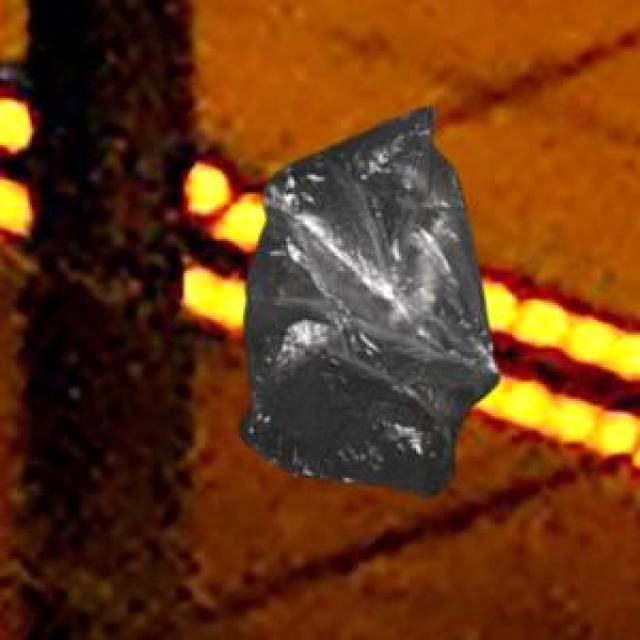Plastic_Bag: (236, 105, 497, 494)
